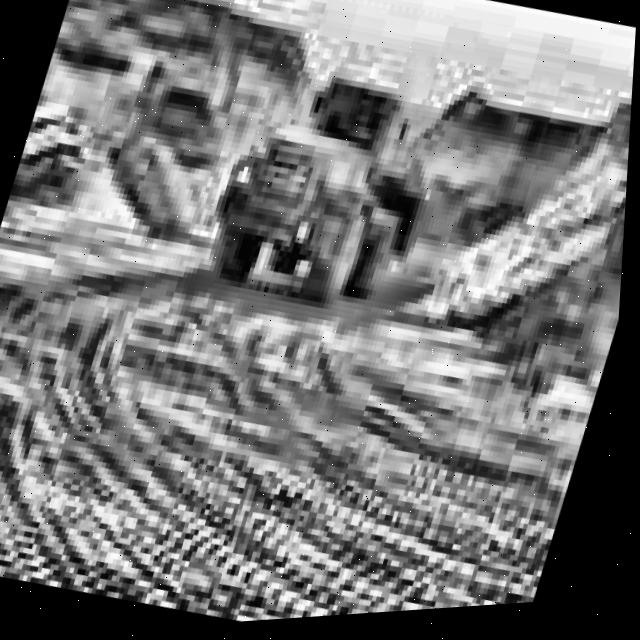buldozerpayloadergrader: (188, 39, 460, 330)
